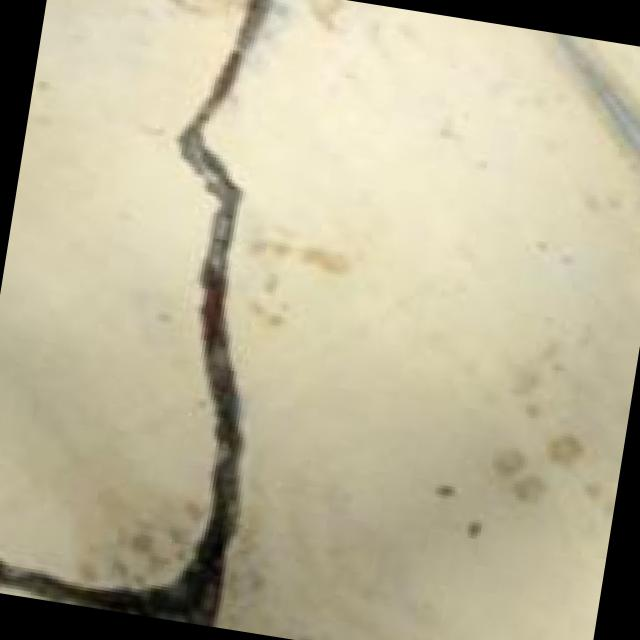crack: (20, 0, 398, 637)
